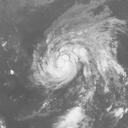cyclone: (32, 33, 86, 90)
